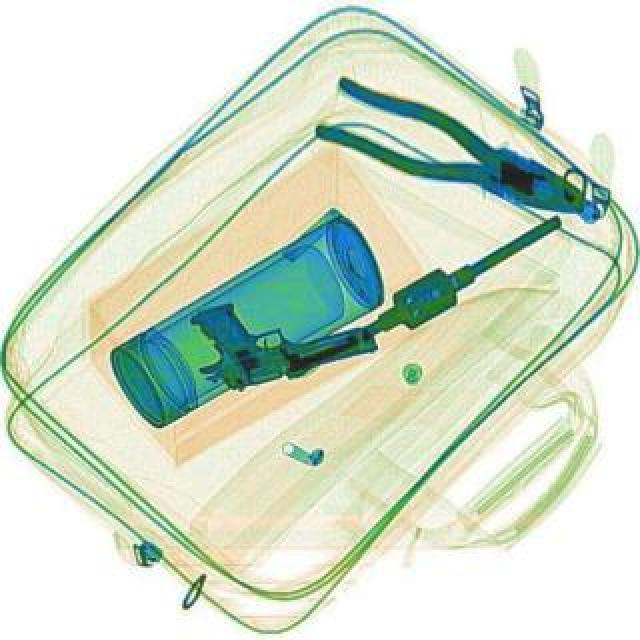gun: (184, 268, 386, 400)
wrench: (312, 70, 604, 238)
